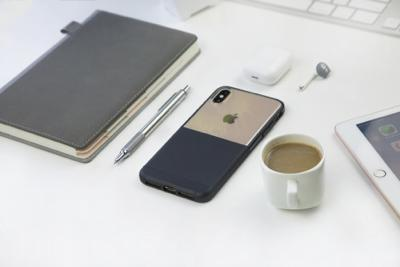Mobile Phone: (138, 84, 285, 203)
